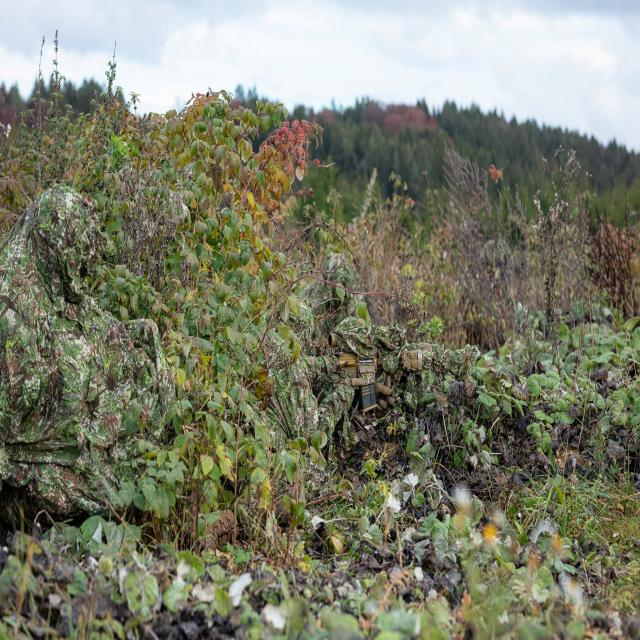Camouflage: (1, 184, 185, 511), (270, 315, 630, 469)
